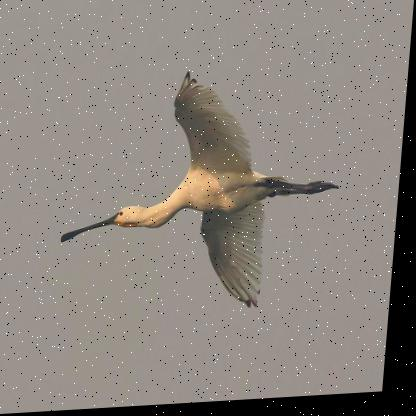Burung: (59, 76, 349, 319)
